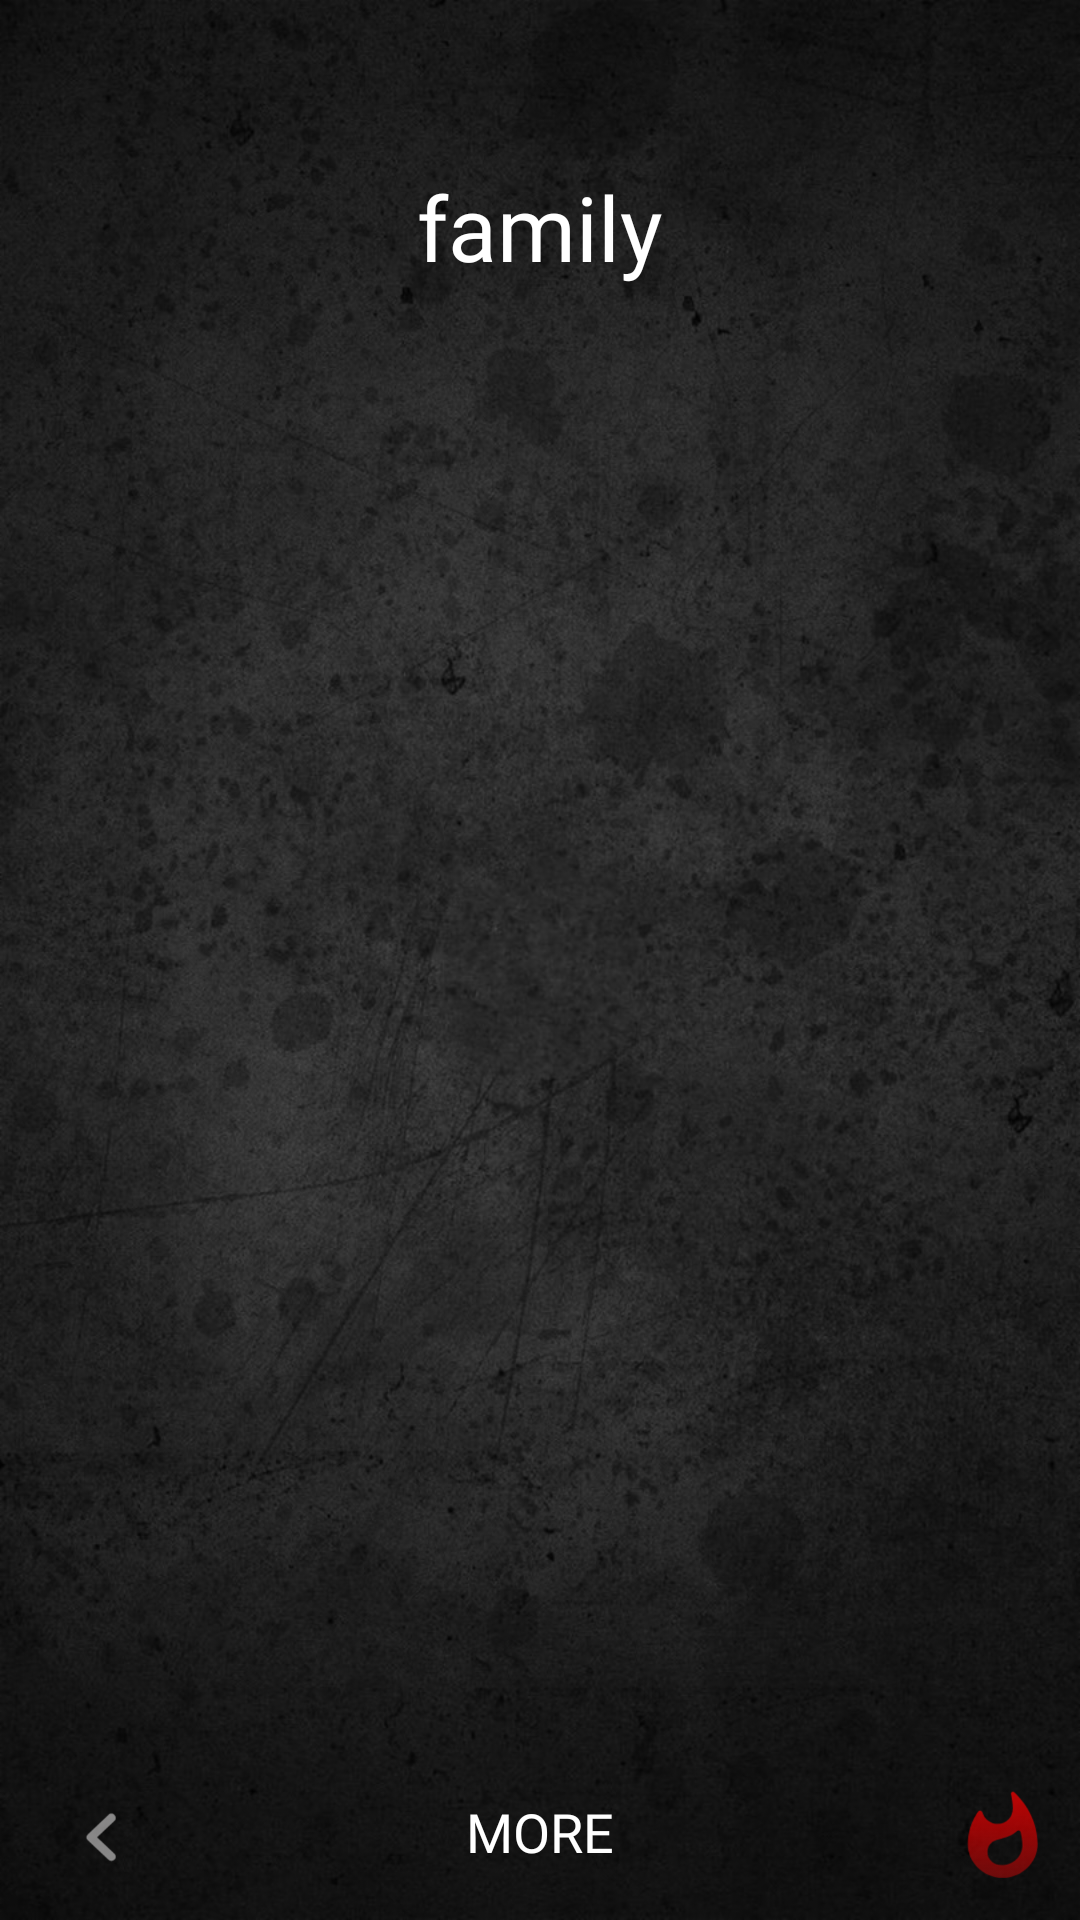

Where icons sit on this 1080px×1920px app screen, as (x1, y1, x2, y2):
keyboard arrow left rounded: (86, 1813, 116, 1861)
whatshot rounded: (967, 1791, 1038, 1878)
